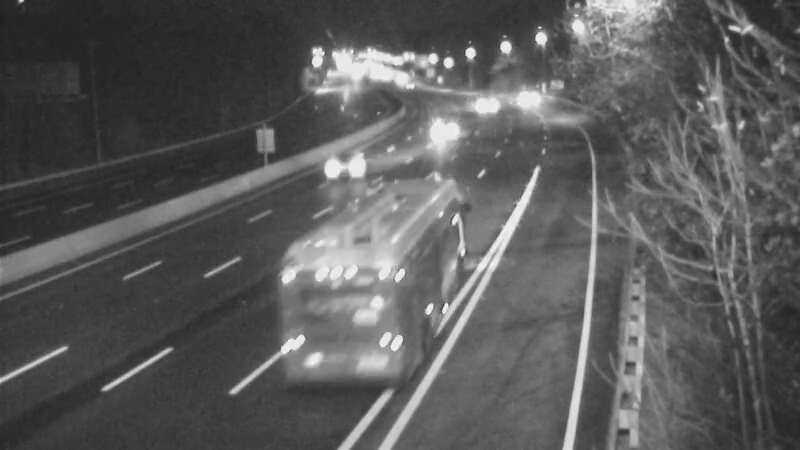vehicle: (300, 128, 380, 208), (306, 236, 386, 316), (502, 71, 552, 121), (460, 80, 510, 130), (418, 106, 468, 156)
